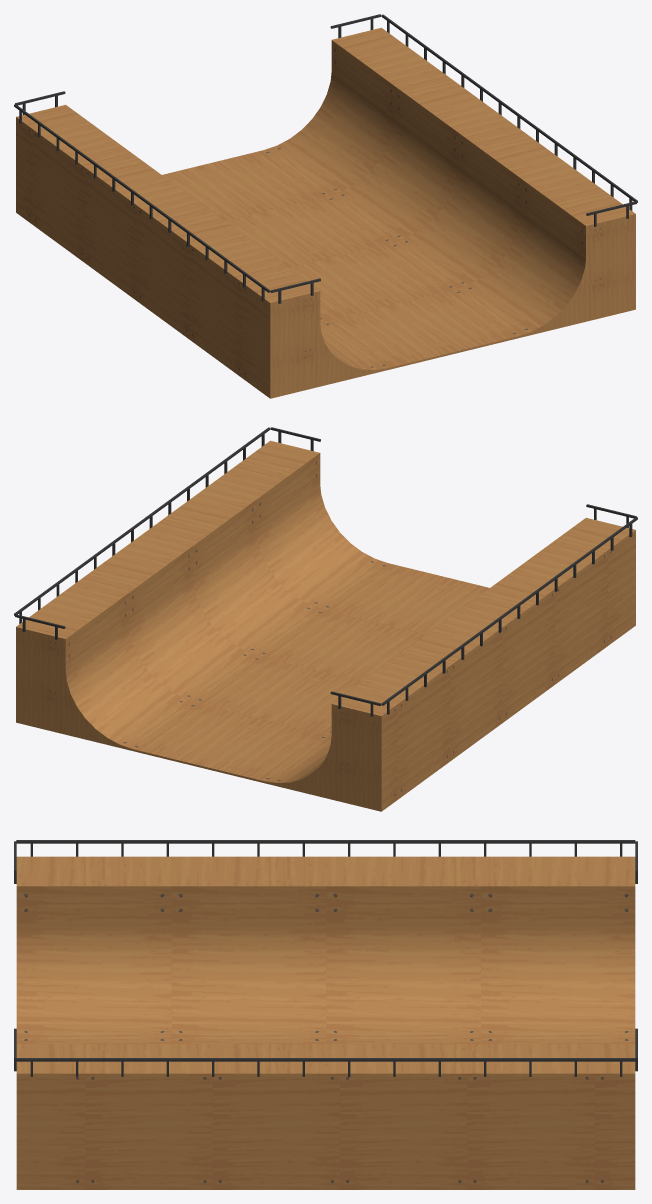
Rendered from halfpipe.fbx.
3 renders of one model, top to bottom at view 1: azimuth 30°, elevation 25°; view 2: azimuth 150°, elevation 25°; view 3: azimuth 270°, elevation 25°, orthographic. The views are drawn at different scales.
Parts seen in each view (by area): view 1: Halfpipe; view 2: Halfpipe; view 3: Halfpipe.
Part boxes in pixels (x1,y1,x2,y2): Halfpipe: [14, 14, 637, 398]; Halfpipe: [14, 427, 637, 811]; Halfpipe: [14, 840, 637, 1189].
Bounding box in the file's own units: 1212 × 340 × 1459.
